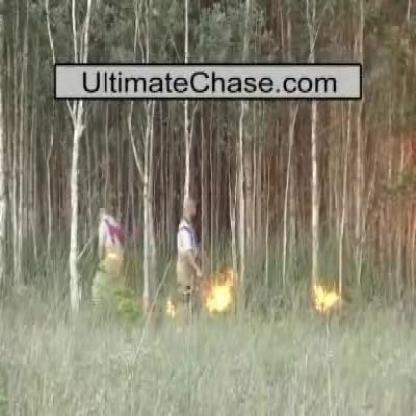foggia-v2-map80-epoch100 - v1 4323: (314, 287, 338, 313), (207, 287, 231, 311)
